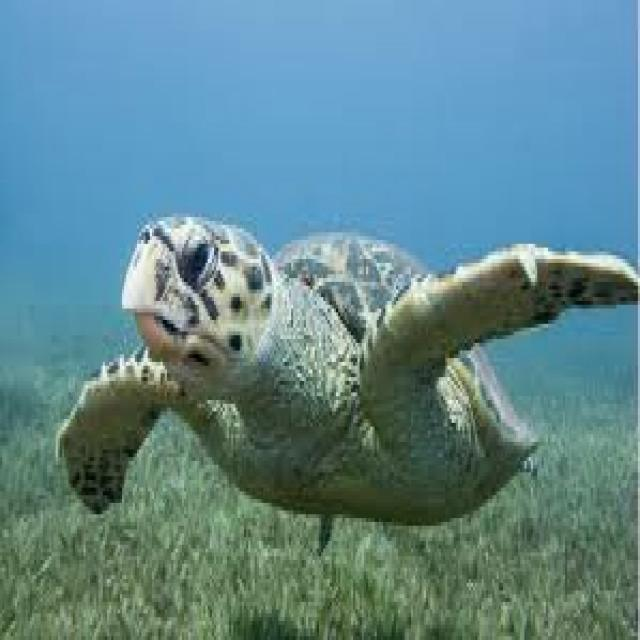turtle: (56, 217, 638, 549)
